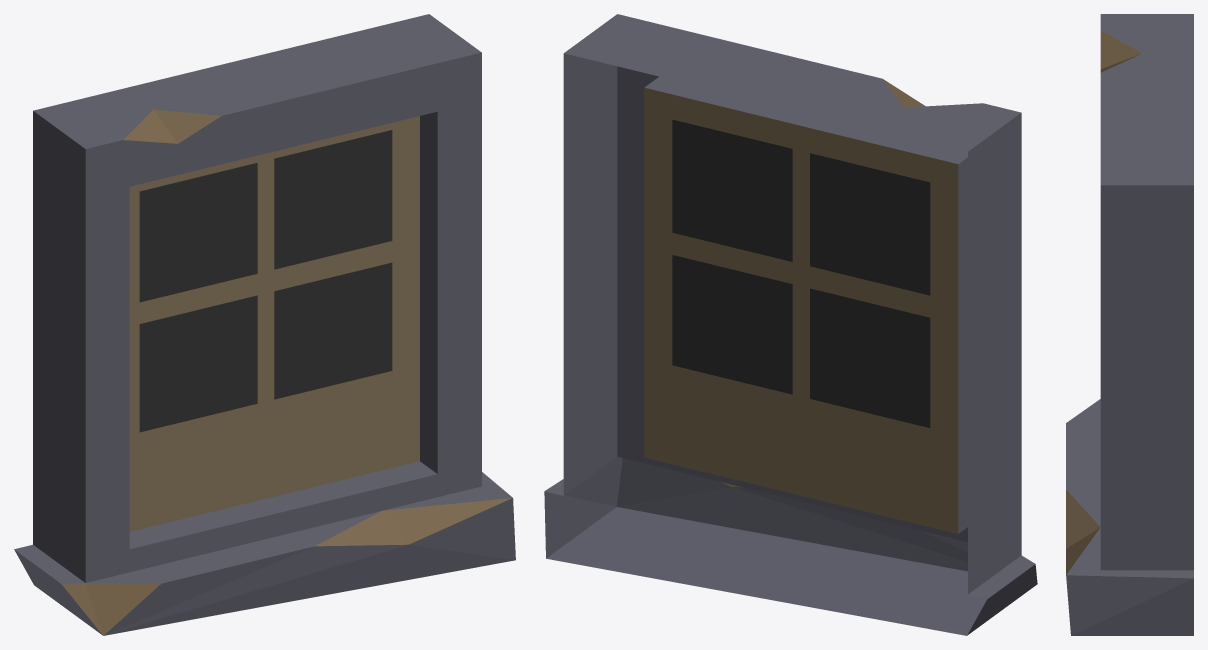
Rendered from SM_Prop_Window_02.glb.
The picture shows the model from 3 angles, left to right: view 1: azimuth 30°, elevation 25°; view 2: azimuth 150°, elevation 25°; view 3: azimuth 270°, elevation 25°; orthographic projection. The views are drawn at different scales.
Visible parts, largest first — view 1: SM_Prop_Window_02_part00; view 2: SM_Prop_Window_02_part00; view 3: SM_Prop_Window_02_part00.
Part boxes in pixels (x1=…): SM_Prop_Window_02_part00: x1=14, y1=14, x2=515, y2=635; SM_Prop_Window_02_part00: x1=544, y1=14, x2=1037, y2=635; SM_Prop_Window_02_part00: x1=1066, y1=14, x2=1193, y2=635.
Bounding box in the file's own units: 0.8226 × 0.9046 × 0.2365.
Materials: 1 (1 with a texture image).
